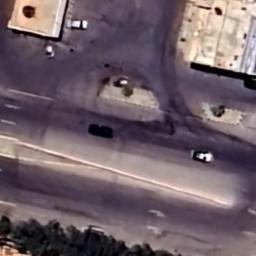truck: (70, 20, 88, 30)
unknown: (88, 123, 114, 139), (192, 151, 212, 163)
